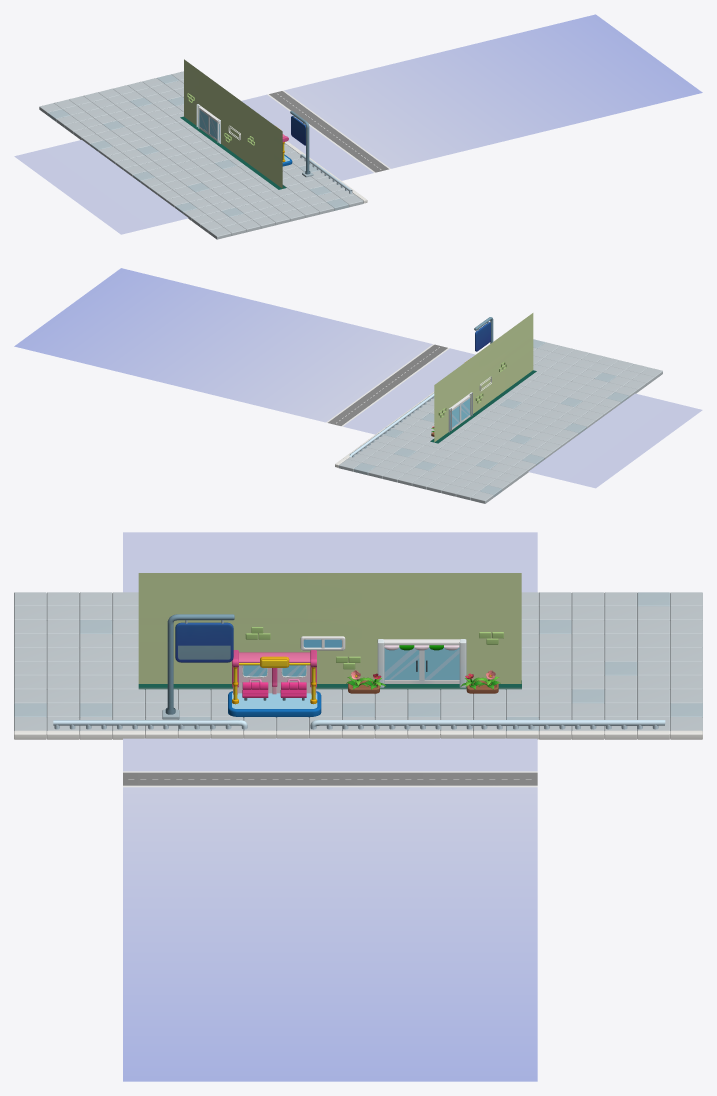
Rendered from bus_stop.fbx.
The picture shows the model from 3 angles, top to bottom: view 1: azimuth 30°, elevation 25°; view 2: azimuth 150°, elevation 25°; view 3: azimuth 270°, elevation 25°; orthographic projection. The views are drawn at different scales.
Visible parts, largest first — view 1: road, pavement, wall, sign; view 2: road, pavement, wall, sign, fence2; view 3: road, pavement, wall, bus_stop, sign, fence2, fence1, door_L, door_R.
Part boxes in pixels (bbox=[...]): road: bbox=[14, 14, 702, 234]; pavement: bbox=[39, 71, 367, 239]; wall: bbox=[180, 59, 286, 189]; sign: bbox=[290, 111, 313, 177]; road: bbox=[14, 268, 702, 488]; pavement: bbox=[335, 339, 662, 503]; wall: bbox=[430, 313, 536, 443]; sign: bbox=[474, 317, 493, 351]; fence2: bbox=[349, 393, 434, 457]; road: bbox=[123, 532, 537, 1081]; pavement: bbox=[14, 592, 702, 739]; wall: bbox=[138, 573, 521, 693]; bus_stop: bbox=[228, 650, 321, 717]; sign: bbox=[162, 614, 234, 719]; fence2: bbox=[310, 720, 665, 729]; fence1: bbox=[53, 720, 247, 729]; door_L: bbox=[422, 645, 459, 683]; door_R: bbox=[384, 647, 421, 683].
Bounding box in the file's own units: 420 × 42.26 × 222.
